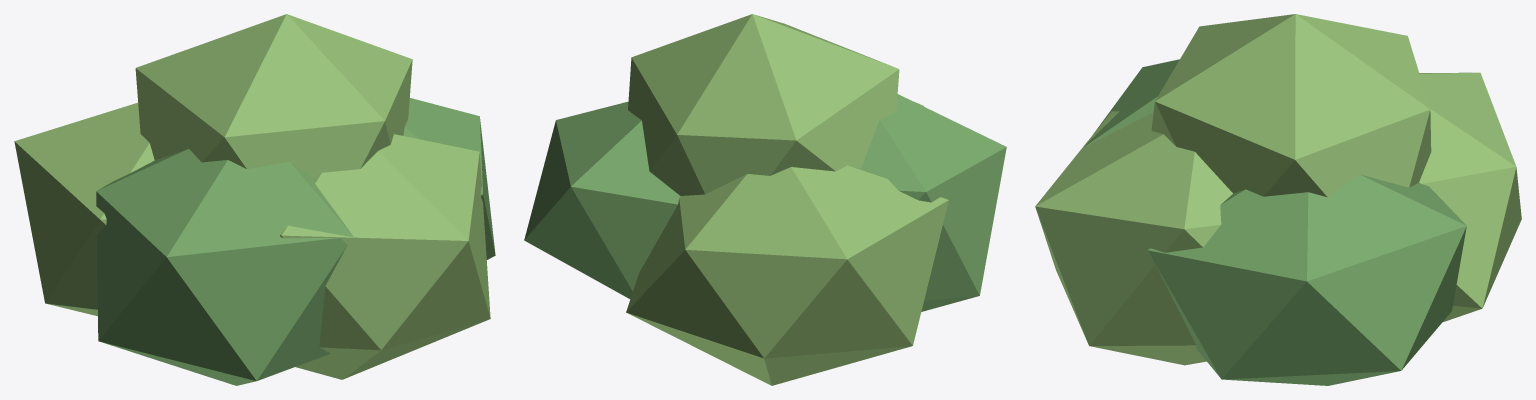
Rendered from SM_Bush_01.fbx.
3 views of the same model, side by side, from view 1: azimuth 30°, elevation 25°; view 2: azimuth 150°, elevation 25°; view 3: azimuth 270°, elevation 25° (orthographic). The views are drawn at different scales.
Visible parts, largest first — view 1: SM_Bush_01; view 2: SM_Bush_01; view 3: SM_Bush_01.
Boxes of the visible parts, bbox=[...] form: SM_Bush_01: bbox=[14, 14, 495, 385]; SM_Bush_01: bbox=[524, 14, 1006, 385]; SM_Bush_01: bbox=[1035, 14, 1521, 385].
Bounding box in the file's own units: 1.18 × 0.9294 × 1.14.
